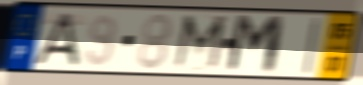8: (134, 12, 176, 73)
9: (84, 12, 121, 69)
A: (30, 11, 80, 68)
I: (300, 16, 323, 77)
M: (224, 13, 288, 77), (170, 12, 230, 74)
